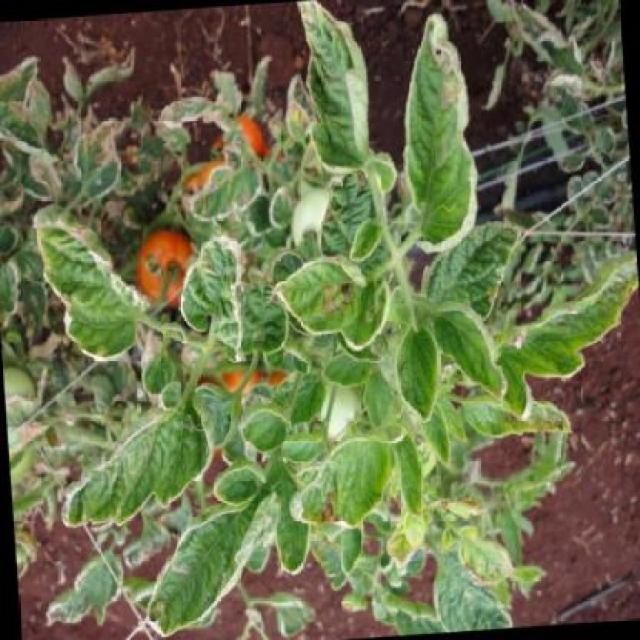Healthy Leaf: (273, 0, 405, 194), (39, 404, 230, 534), (392, 16, 490, 261), (22, 184, 150, 371), (278, 402, 438, 546), (493, 265, 639, 412), (268, 253, 397, 381), (145, 502, 260, 640), (167, 222, 258, 367), (432, 302, 530, 409), (387, 321, 464, 430)
